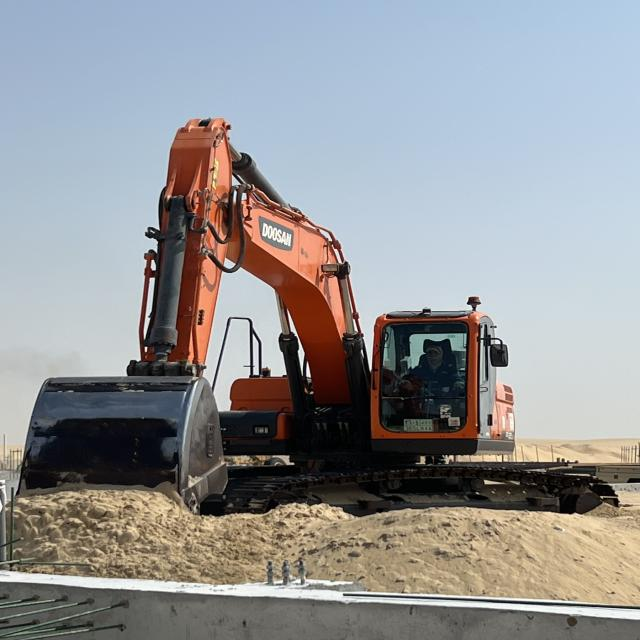excavator: (14, 112, 625, 524)
